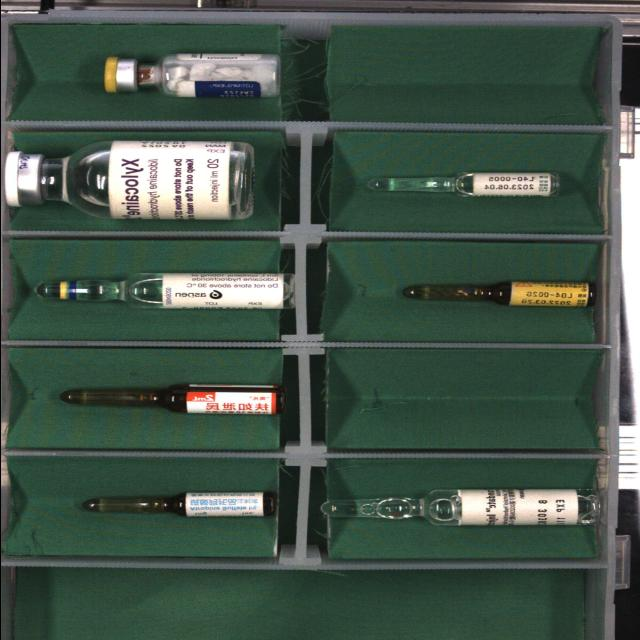Vials: (4, 141, 252, 220), (103, 54, 279, 98)
